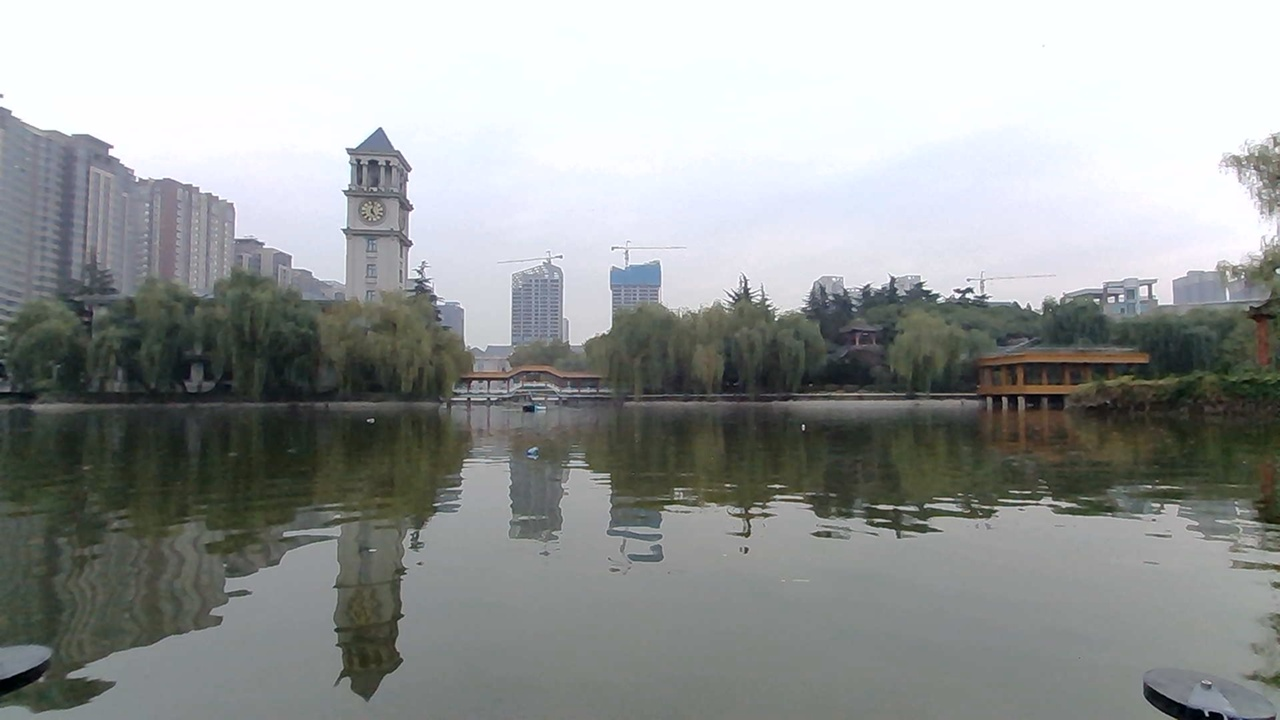bottle: (511, 433, 552, 462), (789, 418, 820, 439), (366, 408, 392, 427)
